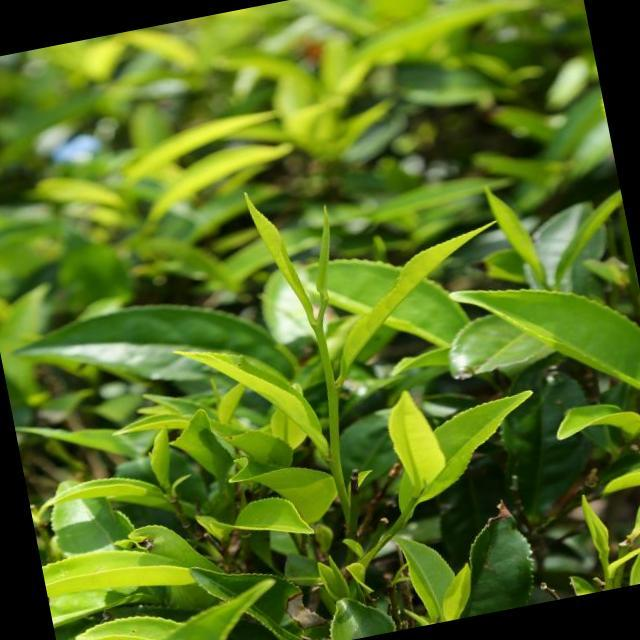Stem: (399, 498, 417, 520), (316, 330, 329, 360)
